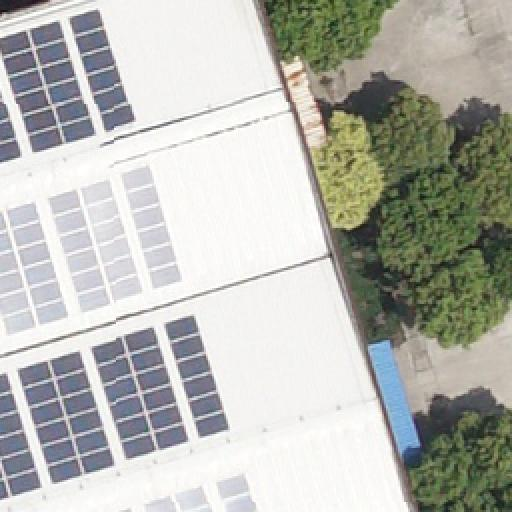solar-panel: (93, 326, 195, 462), (18, 347, 118, 485), (0, 21, 96, 155), (49, 180, 143, 312), (0, 204, 72, 336), (165, 312, 235, 440), (70, 10, 138, 134), (121, 166, 183, 290), (1, 370, 47, 502), (145, 484, 215, 512), (0, 89, 24, 167), (219, 472, 261, 512), (119, 505, 137, 511)
